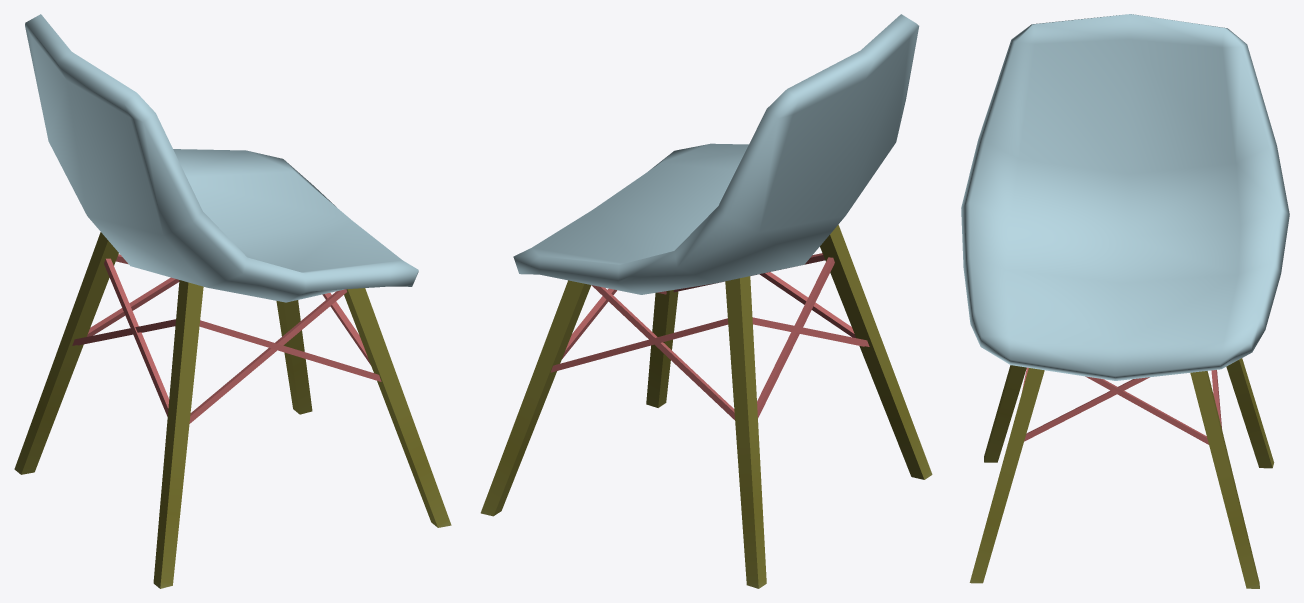
The model's file is Office2_chair.fbx.
3 renders of one model, left to right at view 1: azimuth 30°, elevation 25°; view 2: azimuth 150°, elevation 25°; view 3: azimuth 270°, elevation 25°, orthographic. The views are drawn at different scales.
Visible parts, largest first — view 1: Office2_chair; view 2: Office2_chair; view 3: Office2_chair.
Part boxes in pixels (<box>): Office2_chair: <box>14,14,451,588</box>; Office2_chair: <box>480,14,932,588</box>; Office2_chair: <box>961,14,1289,588</box>.
Bounding box in the file's own units: 101 × 145 × 98.51.
